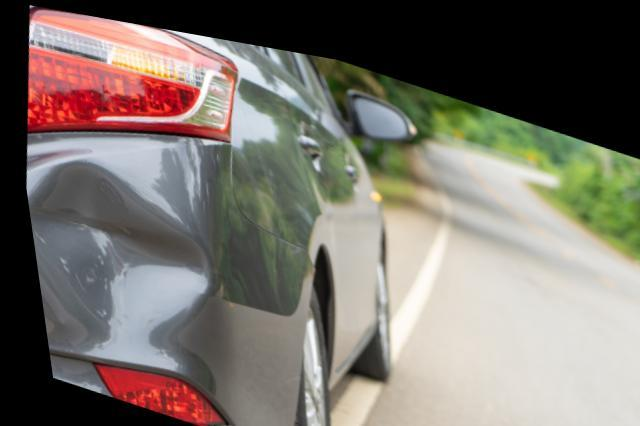dent: (22, 159, 202, 331)
